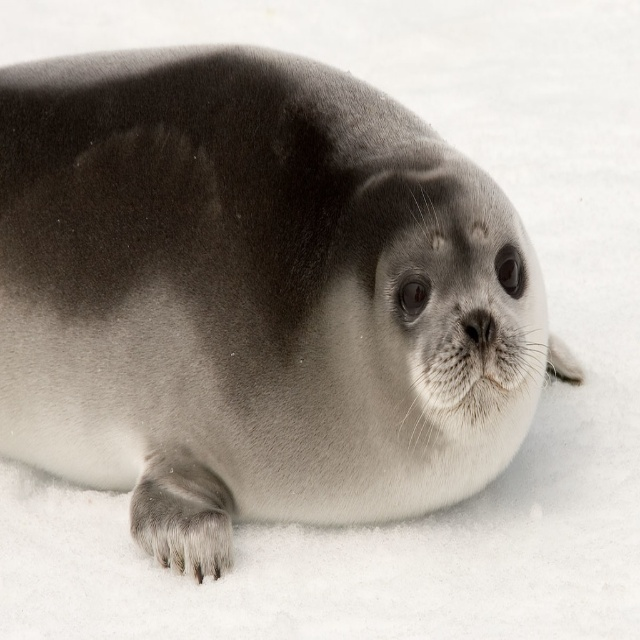Harbor seal: (0, 40, 588, 586)
